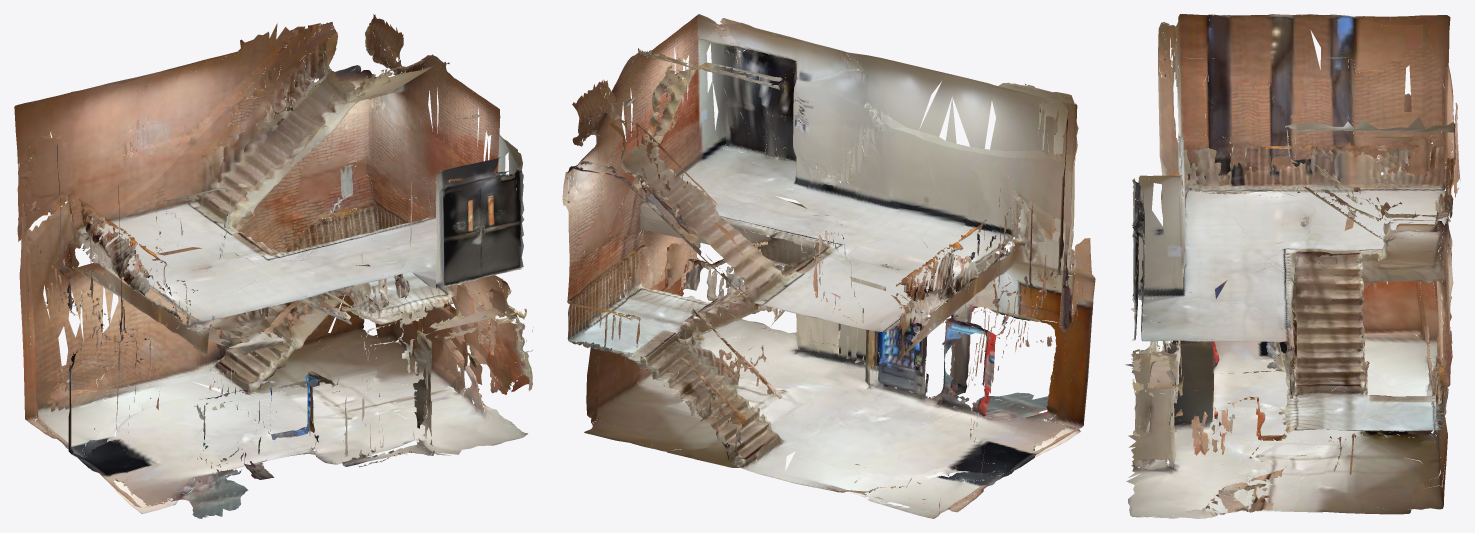
Rendered from opp_stair.glb.
3 renders of one model, left to right at view 1: azimuth 30°, elevation 25°; view 2: azimuth 150°, elevation 25°; view 3: azimuth 270°, elevation 25°, orthographic. The views are drawn at different scales.
Visible parts, largest first — view 1: opp_stair_F2, opp_stair_F1; view 2: opp_stair_F2, opp_stair_F1; view 3: opp_stair_F2, opp_stair_F1.
Part boxes in pixels (x1,y1,x2,y2): opp_stair_F2: (14,14,524,354); opp_stair_F1: (20,169,533,518); opp_stair_F2: (562,14,1091,360); opp_stair_F1: (567,201,1095,518); opp_stair_F2: (1131,14,1460,356); opp_stair_F1: (1125,161,1452,518).
Size of the model in its own units: 9.27 by 7.32 by 6.5.
Materials: 1 (1 with a texture image).
